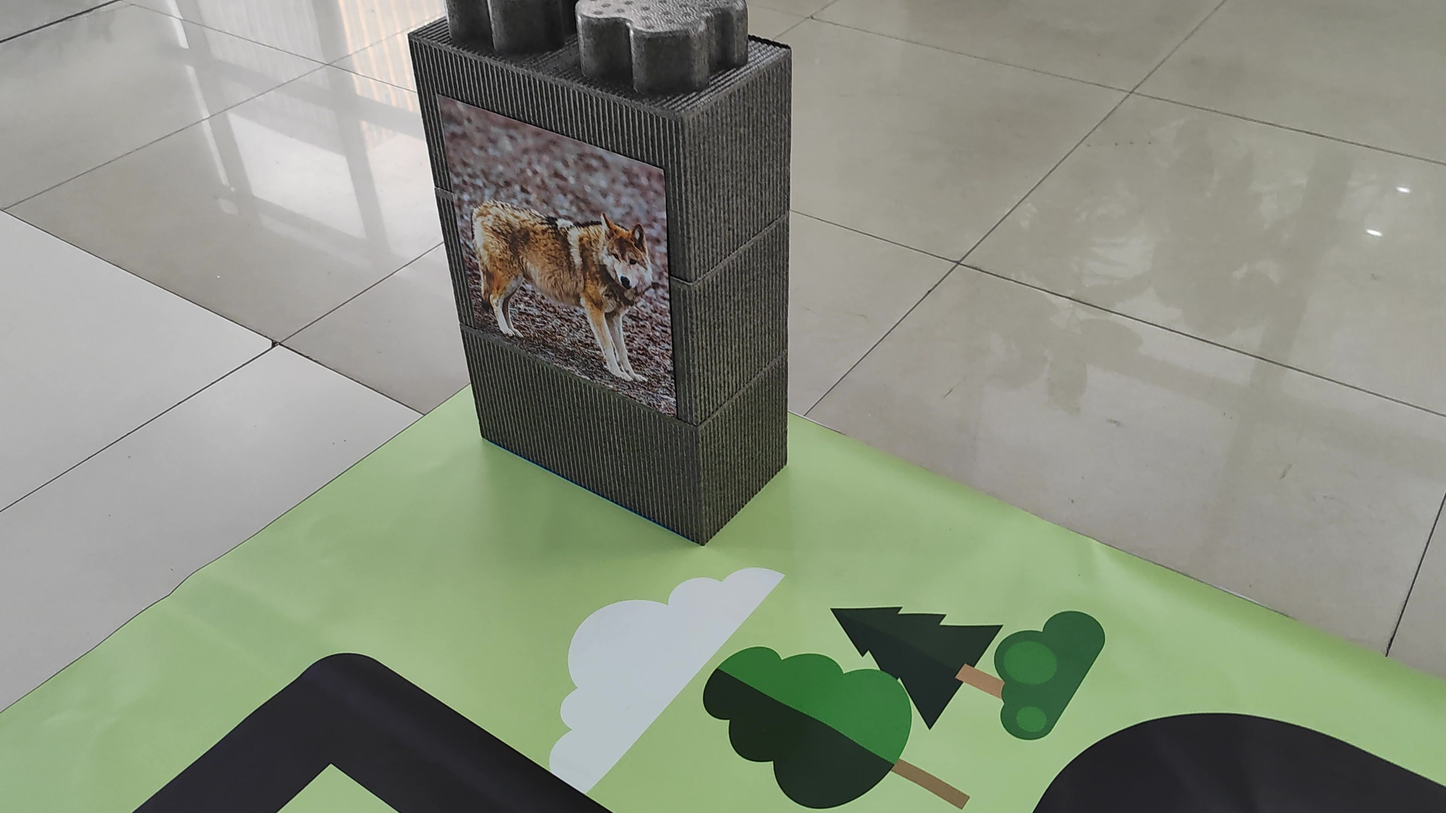wolf: (445, 183, 672, 389)
